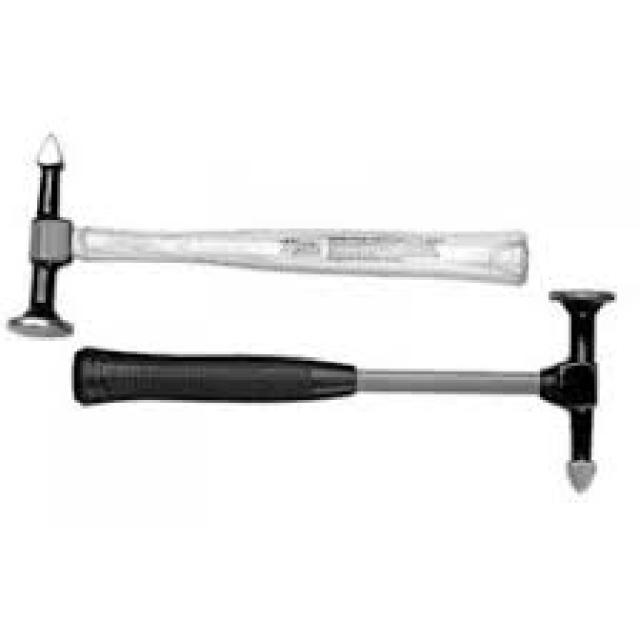Palu: (60, 262, 632, 500), (31, 116, 538, 359)
